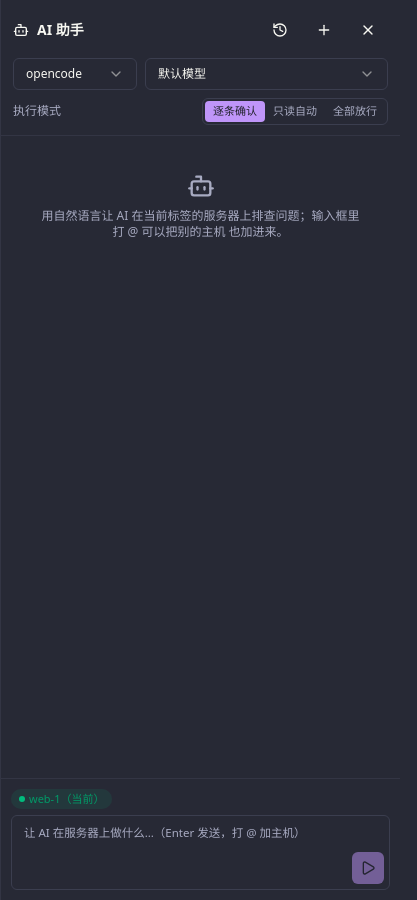
用户消息换行 › 气泡带 pre-wrap 和 break-words：长网址这类内容能折行
In the text box with placeholder "让 AI 在服务器上做什么…（Enter 发送，打 @ 加主机）": [200, 852] box [11,815,390,890], type "看看这个 https://example.com/a/very/long/path/that/never/breaks/without-css-help"
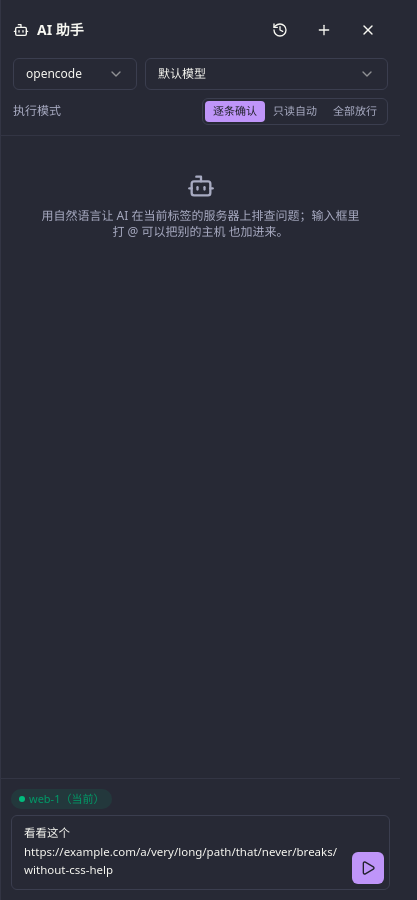
Press Enter in the text box with placeholder "让 AI 在服务器上做什么…（Enter 发送，打 @ 加主机）", box [11,815,390,890]
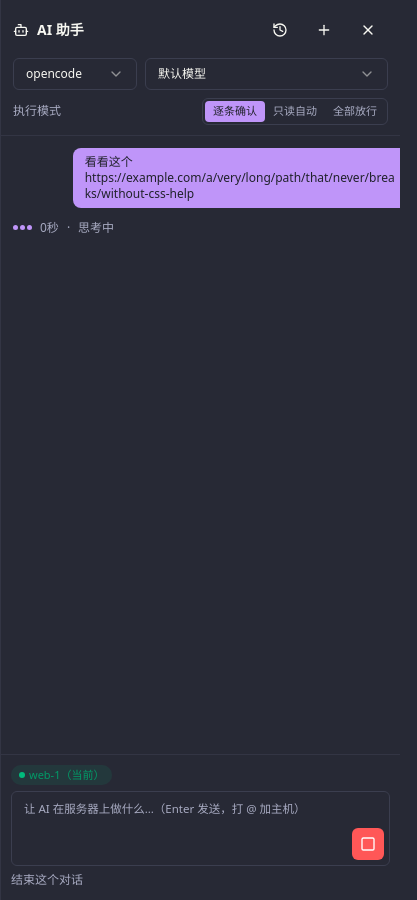
Result: the text "https://example.com/a/very/long/path" is shown at [85,152,395,202]
